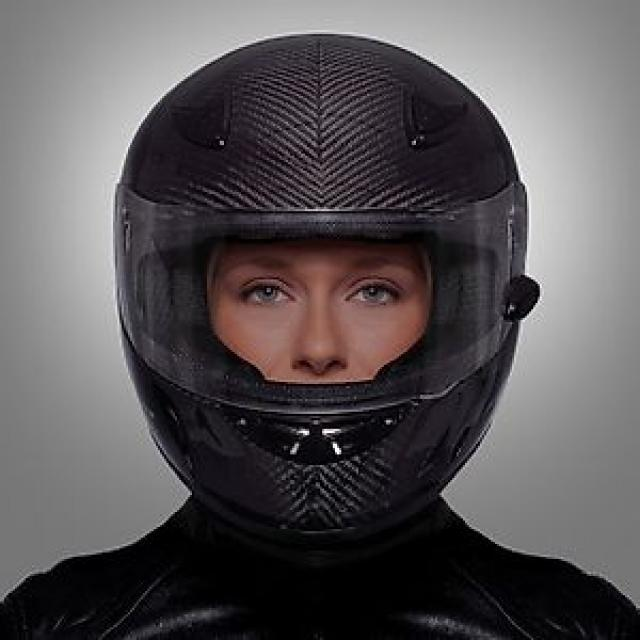Helm: (105, 31, 540, 549)
